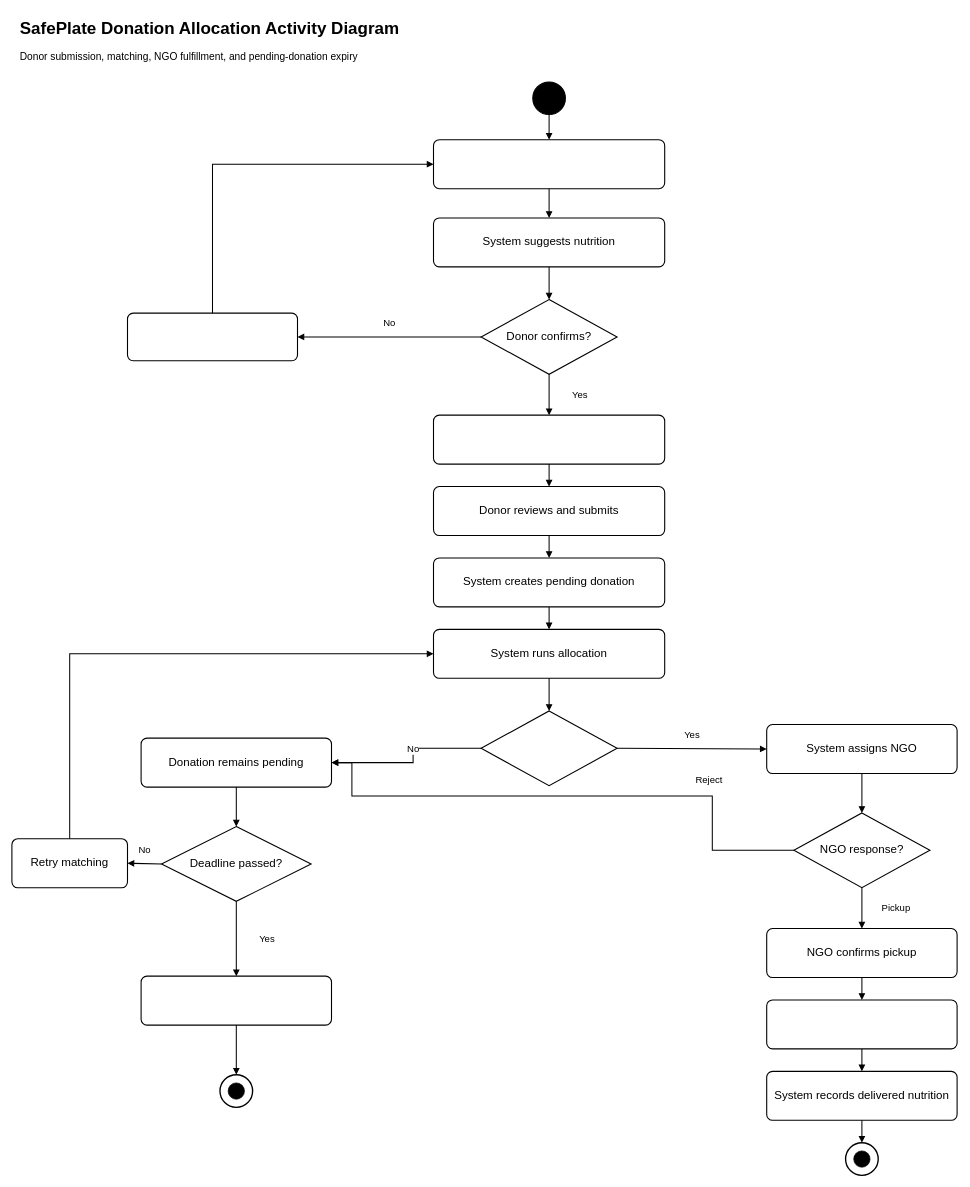
The diagram is 970 pixels wide and 1187 high, and some of its shapes have lost their labels. Here are the shapes that lost their labels. From the top down, the box of each, then its label:
(433, 139, 665, 189): Donor enters food items
(127, 312, 298, 361): Donor revises items
(433, 414, 665, 464): Donor sets pickup details
(480, 710, 617, 786): Eligible NGO?
(140, 975, 332, 1025): System discards expired donation
(766, 999, 957, 1049): NGO confirms delivery
